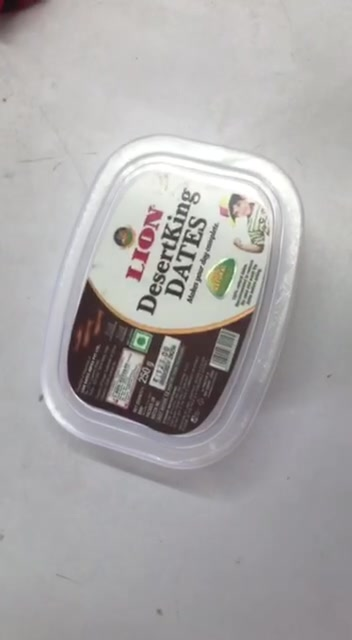Lion dates: (41, 134, 304, 471)
